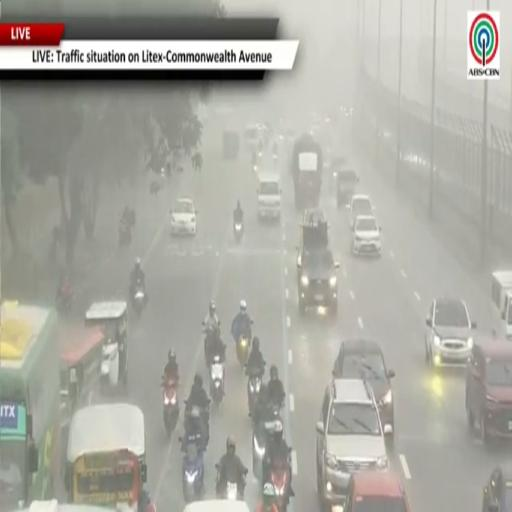bus: (0, 302, 59, 509)
car: (316, 379, 389, 507), (333, 339, 395, 440), (466, 340, 511, 441), (425, 297, 476, 367), (297, 248, 339, 316), (344, 472, 410, 511), (296, 208, 329, 269), (482, 463, 511, 511), (332, 157, 359, 207), (351, 216, 381, 255), (170, 198, 197, 235), (346, 195, 375, 228), (245, 124, 260, 149)
jeepney: (65, 404, 148, 511), (59, 326, 104, 468), (59, 326, 104, 419), (86, 301, 128, 390), (17, 500, 104, 511), (184, 500, 249, 511)
motorcycle: (252, 408, 282, 479), (183, 439, 204, 503), (184, 400, 209, 451), (216, 464, 245, 500), (271, 460, 290, 511), (162, 379, 179, 435), (202, 322, 220, 366), (236, 320, 253, 366), (246, 367, 262, 414), (210, 356, 224, 405), (56, 285, 73, 313), (133, 282, 145, 317), (237, 334, 250, 366), (119, 222, 131, 247), (234, 221, 243, 243), (273, 154, 278, 166)
truck: (291, 134, 323, 210), (492, 270, 511, 340)
